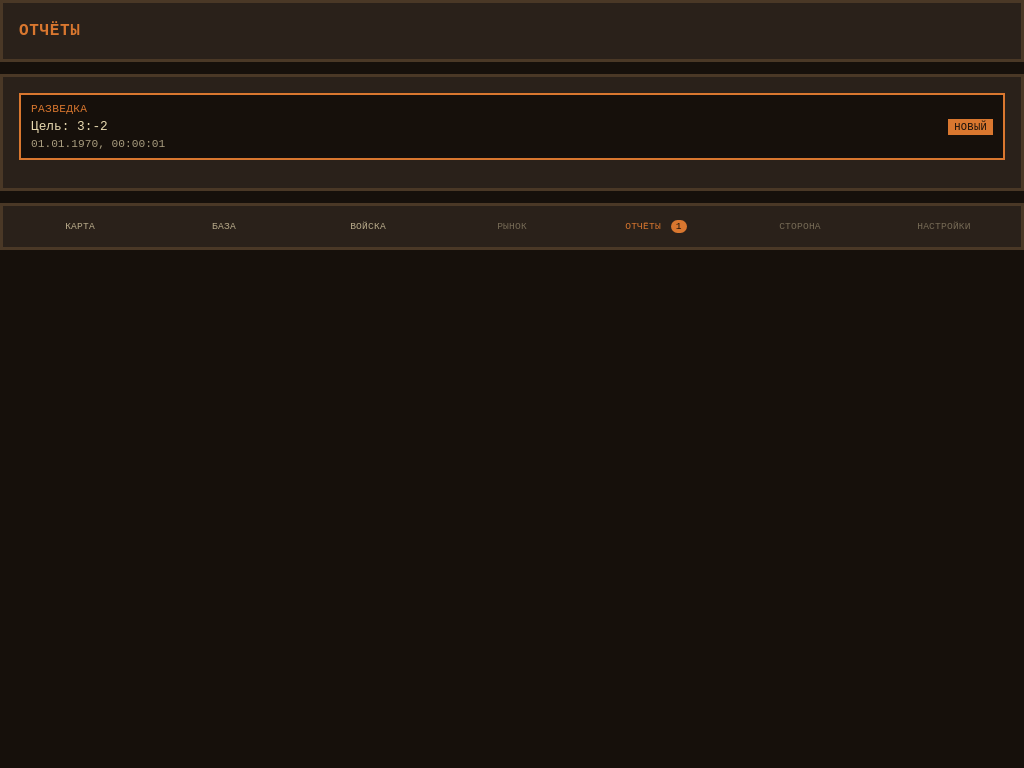
Scenario: ReportsScreen — report detail per type › renders a scout report at base tier: sent/survivors/losses, resources/storage/troops always, and the explicit tier-unavailable message with no building list
Click the text "Разведка": (59, 109) [31,103,87,115]
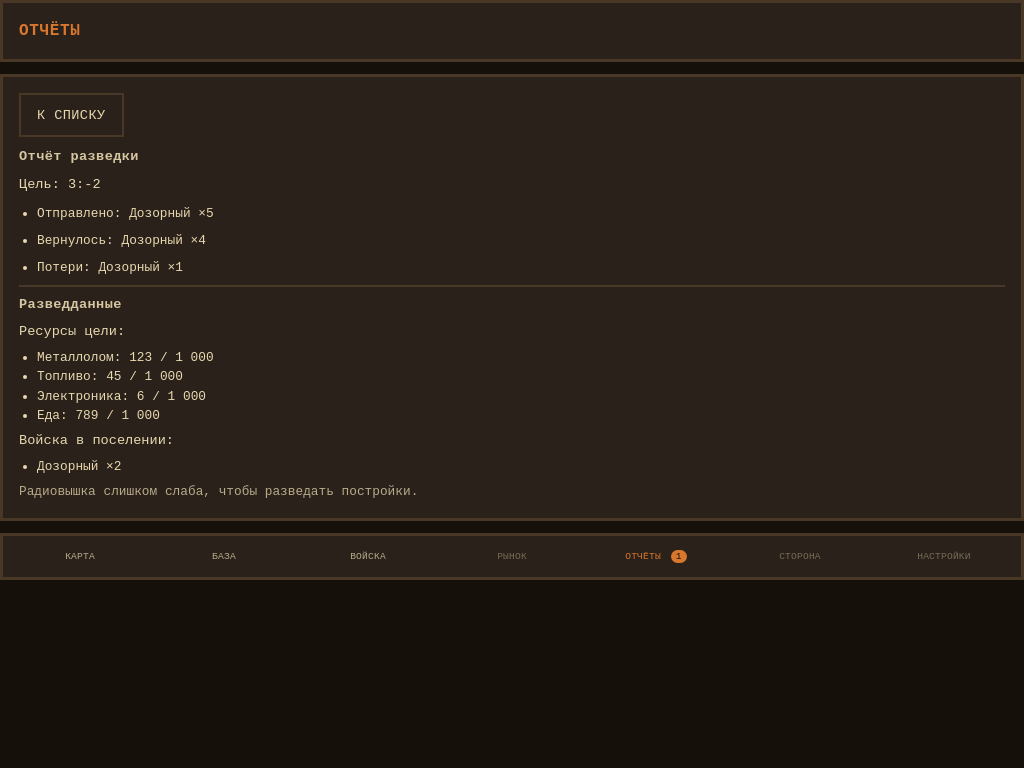
Now the heading "Отчёт разведки" is shown, box [19,149,139,164]
Now the element with class "report-detail" shows "Дозорный ×4", box [37,233,206,248]
Now the element with class "report-detail" shows "Дозорный ×1", box [37,260,183,275]
